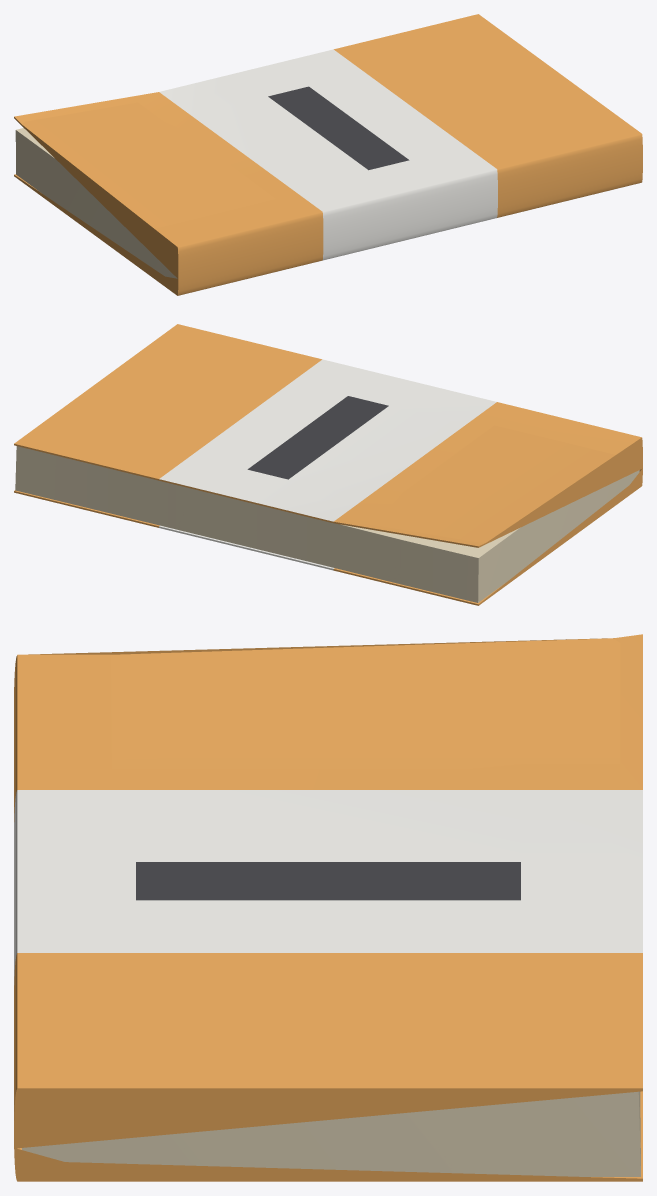
The model's file is paper_book_b.fbx.
3 renders of one model, top to bottom at view 1: azimuth 30°, elevation 25°; view 2: azimuth 150°, elevation 25°; view 3: azimuth 270°, elevation 25°, orthographic. The views are drawn at different scales.
Parts seen in each view (by area): view 1: paper_book_b; view 2: paper_book_b; view 3: paper_book_b.
Boxes of the visible parts, bbox=[...] form: paper_book_b: bbox=[14, 14, 642, 295]; paper_book_b: bbox=[14, 324, 642, 605]; paper_book_b: bbox=[14, 634, 642, 1181].
Bounding box in the file's own units: 0.181 × 0.0222 × 0.111.
